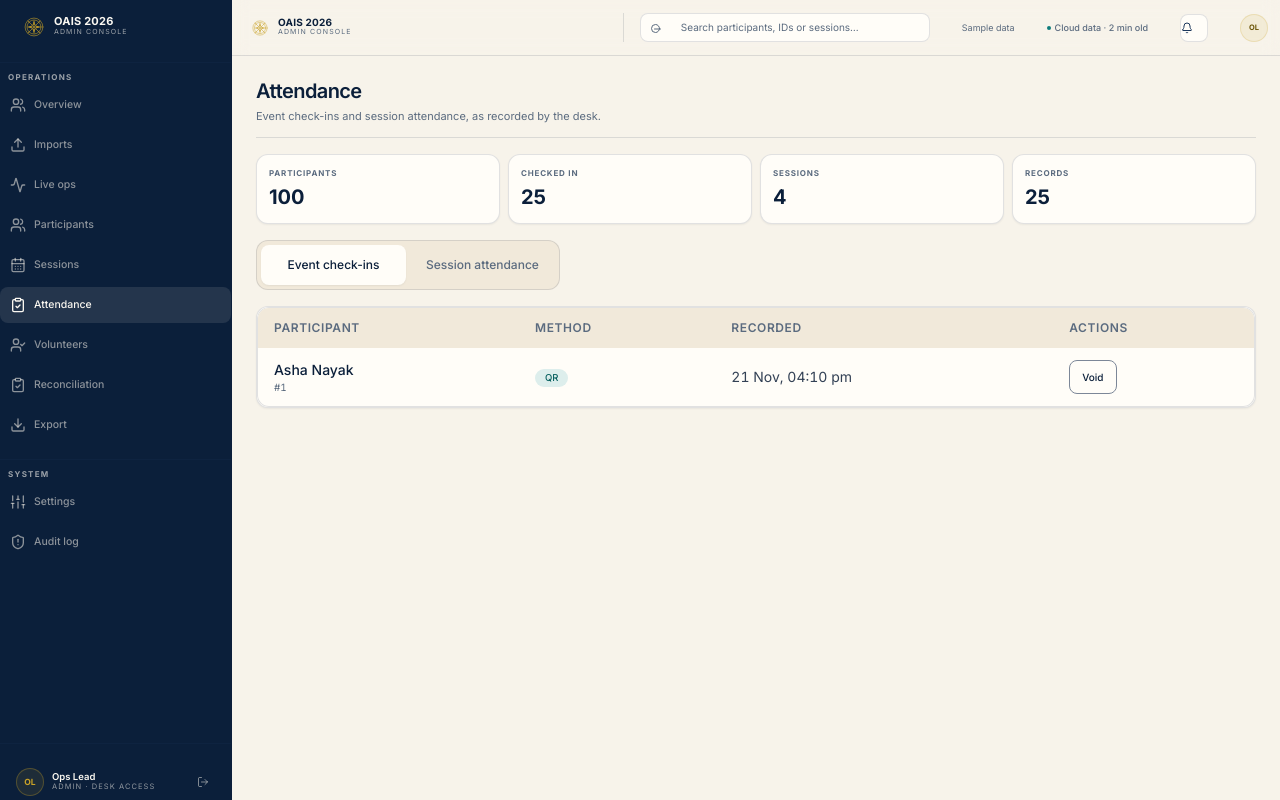
Attendance void flow (Phase 4) › enables the write only when the void endpoint is flagged on and a reason is chosen
Click the button with aria-label "Void record for Asha Nayak" at (1093, 377), box x1=1069 y1=360 x2=1116 y2=394
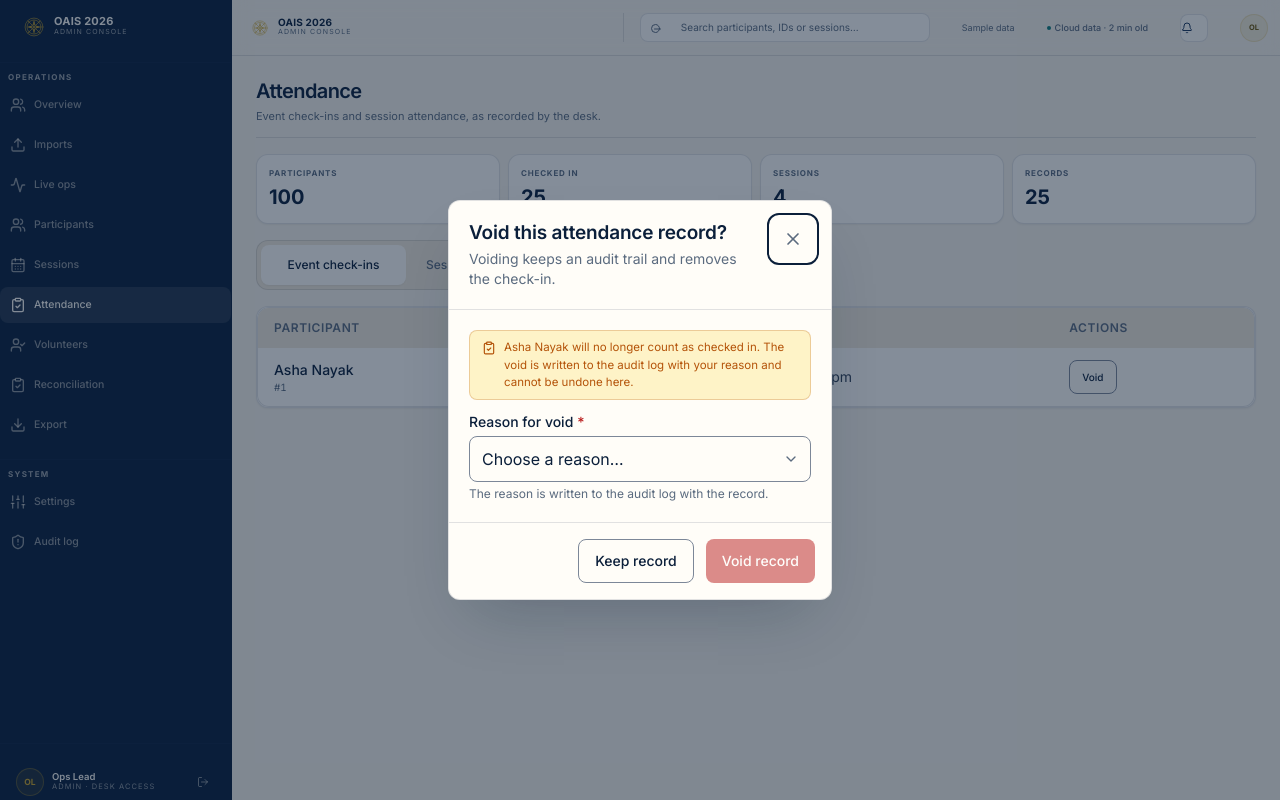
Now the button "Void record" is disabled, box x1=706 y1=539 x2=815 y2=583
Select "Duplicate entry" in the dropdown labelled "Reason for void*" at (640, 459), box x1=469 y1=436 x2=811 y2=482
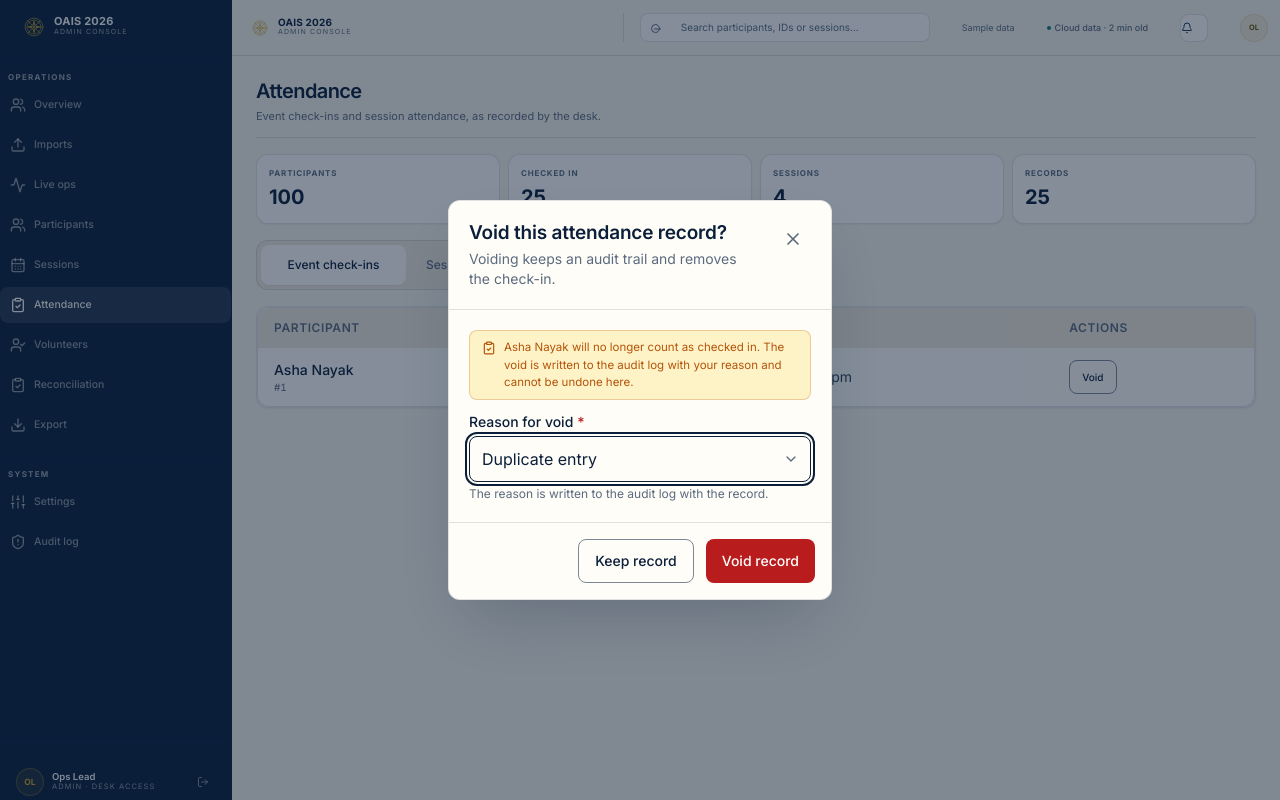
Now the button "Void record" is enabled, box x1=706 y1=539 x2=815 y2=583
